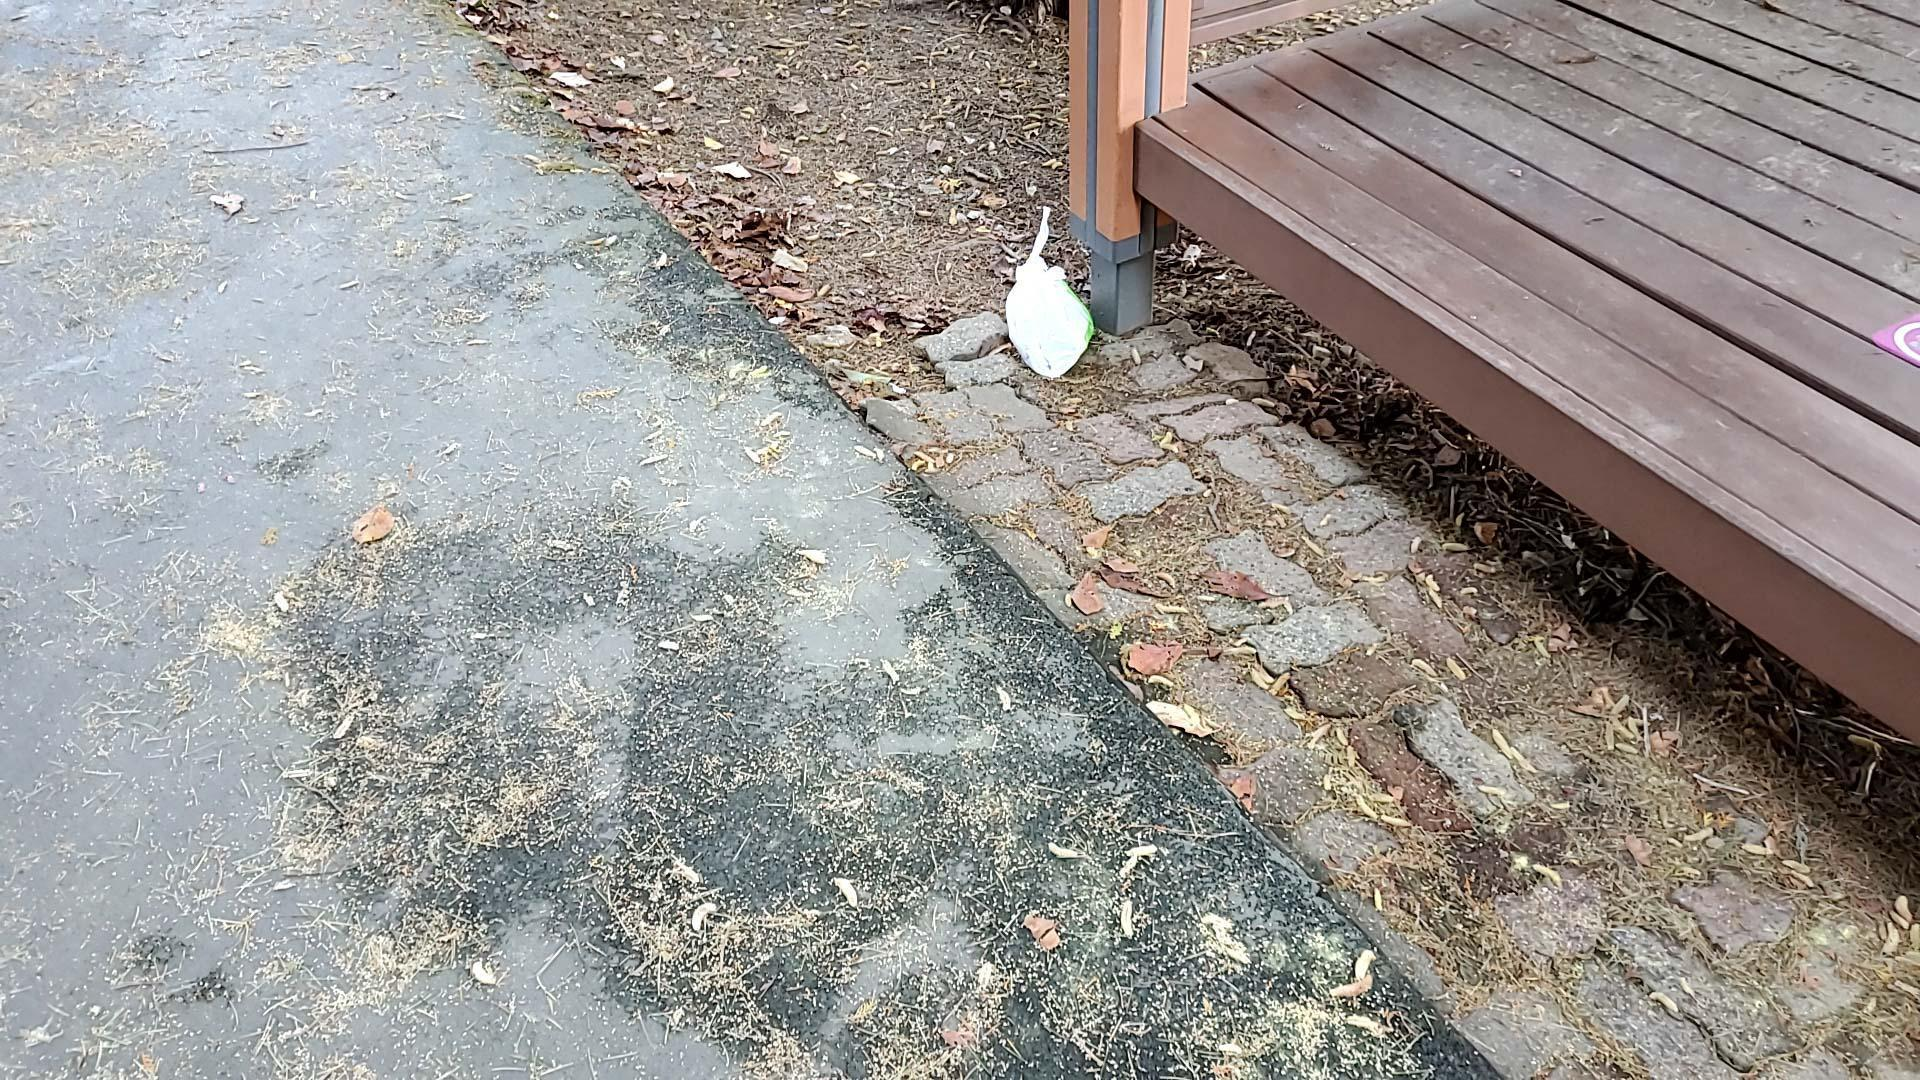white_bag: (993, 199, 1102, 389)
